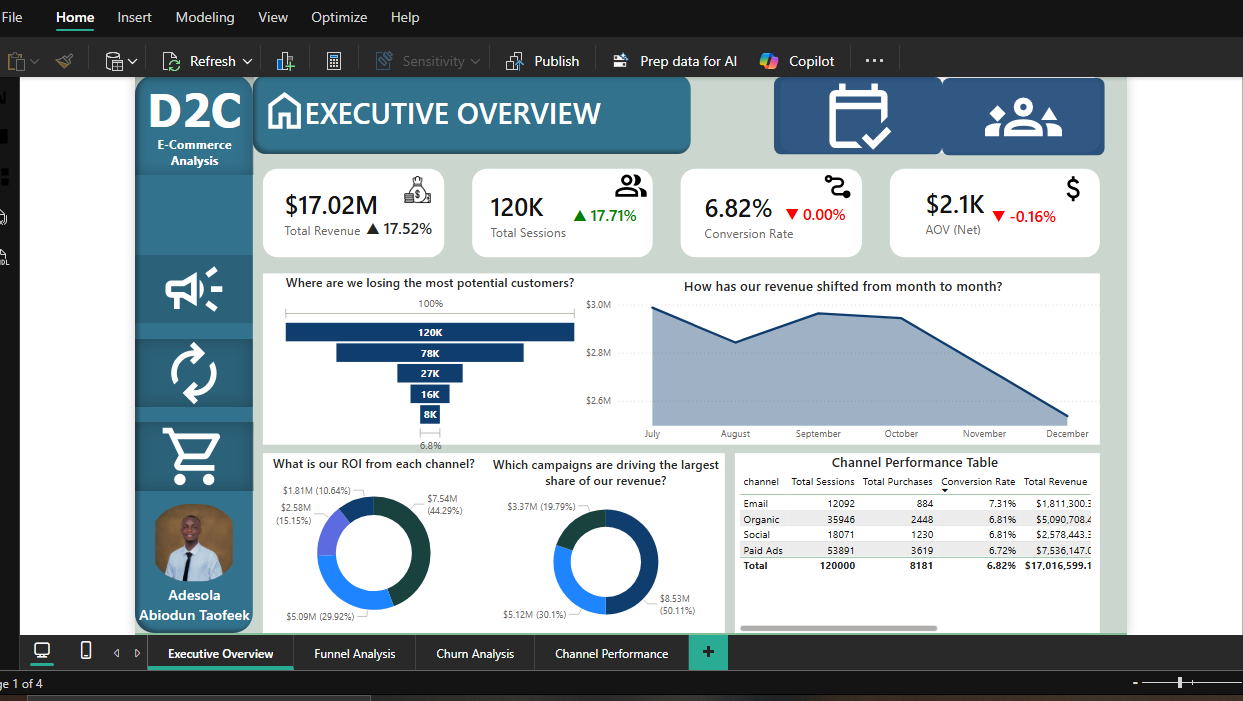

What the dashboard file says about the page in this screenshot:
{"tool":"powerbi","page":{"name":"Executive Overview","canvas":[1280,720],"ordinal":0},"visuals":[{"type":"cardVisual","fields":{"Data":["FactDim2.Total Revenue"]},"box":[163.7,126.5,229.2,96.7],"z":0},{"type":"cardVisual","fields":{"Data":["FactDim2.Total Sessions"]},"box":[430.1,123.5,241.1,105.7],"z":1000},{"type":"cardVisual","fields":{"Data":["FactDim2.Conversion Rate"]},"box":[705.5,128,229.2,101.2],"z":2000},{"type":"cardVisual","fields":{"Data":["FactDim2.AOV (Net)"]},"box":[990.4,125.8,221.2,96.9],"z":3000},{"type":"card","fields":{"Values":["FactDim2.CR Growth With Icon"]},"box":[824.1,154.7,107,46.3],"z":4000},{"type":"card","fields":{"Values":["FactDim2.Session Growth With Icon"]},"box":[543.6,159,125.8,41.9],"z":5000},{"type":"card","fields":{"Values":["FactDim2.Revenue Growth With Icon"]},"box":[287.3,177.1,105.7,38.7],"z":6000},{"type":"card","fields":{"Values":["FactDim2.AOV Growth With Icon"]},"box":[1082.9,161.9,128.7,39],"z":7000},{"type":"funnel","title":"Where are we losing the most potential customers?","fields":{"Y":["FactDim2.Total Sessions","FactDim2.Total Viewed Product","Sum(FactDim2.added_to_cart)","FactDim2.Total Checkout Started","FactDim2.Total Purchases"]},"box":[185.1,254.2,392.3,235.1],"z":8000},{"type":"areaChart","title":"How has our revenue shifted from month to month?","fields":{"Category":["Calendar.Date.Variation.Date Hierarchy.Year","Calendar.Date.Variation.Date Hierarchy.Quarter","Calendar.Date.Variation.Date Hierarchy.Month","Calendar.Date.Variation.Date Hierarchy.Day"],"Y":["FactDim2.Total Revenue"]},"box":[577.3,256.4,674.1,222.3],"z":9000},{"type":"donutChart","title":"What is our ROI from each channel?","fields":{"Y":["FactDim2.Total Revenue"],"Category":["Chennel_Dim.channel"]},"box":[163.7,488.2,288.7,232.2],"z":10000},{"type":"tableEx","title":"Channel Performance Table","fields":{"Values":["Chennel_Dim.channel","FactDim2.Total Sessions","FactDim2.Total Purchases","FactDim2.Conversion Rate","FactDim2.Total Revenue","FactDim2.AOV (Net)","FactDim2.Revenue Growth With Icon","FactDim2.CR Growth With Icon"]},"box":[774.5,484,464.3,236.6],"z":11000},{"type":"donutChart","title":"Which campaigns are driving the largest share of our revenue?","fields":{"Y":["FactDim2.Total Revenue"],"Category":["Campaign_Dim.campaign_type"]},"box":[452.5,488.7,309.4,231.3],"z":12000},{"type":"image","box":[335.4,127.2,57.8,34.7],"z":13000},{"type":"image","box":[860.2,121.4,92.5,40.5],"z":14000},{"type":"image","box":[608.7,118.6,62.2,43.4],"z":15000},{"type":"image","box":[1169.6,122.9,82.4,43.4],"z":16000},{"type":"textbox","box":[163.4,15.9,491.6,70.8],"z":17000},{"type":"image","box":[0,229.2,151.8,87.8],"z":18000},{"type":"image","box":[0,337.9,151.8,87.8],"z":19000},{"type":"image","box":[0,445,153.3,89.3],"z":20000},{"type":"image","box":[17.9,550.7,116.1,99.7],"z":21000},{"type":"image","box":[824.6,0,217.3,99.7],"z":22000},{"type":"textbox","box":[0,650.4,153.3,68.5],"z":27000},{"type":"image","box":[153.3,11.9,78.9,62.5],"z":28000},{"type":"textbox","box":[0,0,153.3,126.5],"z":29000},{"type":"image","box":[1041.6,1.8,209.7,100.4],"z":30000}]}

Visuals, with their boxes on the page's 1280x720 design canvas (x1, y1, x2, y2). These are canvas units, not pixel positions in the 1243x701 screenshot, which may show the page scaled, cropped or inside an application window:
cardVisual - FactDim2.Total Revenue: {"left": 164, "top": 126, "right": 393, "bottom": 223}
cardVisual - FactDim2.Total Sessions: {"left": 430, "top": 124, "right": 671, "bottom": 229}
cardVisual - FactDim2.Conversion Rate: {"left": 706, "top": 128, "right": 935, "bottom": 229}
cardVisual - FactDim2.AOV (Net): {"left": 990, "top": 126, "right": 1212, "bottom": 223}
card - FactDim2.CR Growth With Icon: {"left": 824, "top": 155, "right": 931, "bottom": 201}
card - FactDim2.Session Growth With Icon: {"left": 544, "top": 159, "right": 669, "bottom": 201}
card - FactDim2.Revenue Growth With Icon: {"left": 287, "top": 177, "right": 393, "bottom": 216}
card - FactDim2.AOV Growth With Icon: {"left": 1083, "top": 162, "right": 1212, "bottom": 201}
"Where are we losing the most potential customers?" funnel: {"left": 185, "top": 254, "right": 577, "bottom": 489}
"How has our revenue shifted from month to month?" areaChart: {"left": 577, "top": 256, "right": 1251, "bottom": 479}
"What is our ROI from each channel?" donutChart: {"left": 164, "top": 488, "right": 452, "bottom": 720}
"Channel Performance Table" tableEx: {"left": 774, "top": 484, "right": 1239, "bottom": 721}
"Which campaigns are driving the largest share of our revenue?" donutChart: {"left": 452, "top": 489, "right": 762, "bottom": 720}
image: {"left": 335, "top": 127, "right": 393, "bottom": 162}
image: {"left": 860, "top": 121, "right": 953, "bottom": 162}
image: {"left": 609, "top": 119, "right": 671, "bottom": 162}
image: {"left": 1170, "top": 123, "right": 1252, "bottom": 166}
textbox: {"left": 163, "top": 16, "right": 655, "bottom": 87}
image: {"left": 0, "top": 229, "right": 152, "bottom": 317}
image: {"left": 0, "top": 338, "right": 152, "bottom": 426}
image: {"left": 0, "top": 445, "right": 153, "bottom": 534}
image: {"left": 18, "top": 551, "right": 134, "bottom": 650}
image: {"left": 825, "top": 0, "right": 1042, "bottom": 100}
textbox: {"left": 0, "top": 650, "right": 153, "bottom": 719}
image: {"left": 153, "top": 12, "right": 232, "bottom": 74}
textbox: {"left": 0, "top": 0, "right": 153, "bottom": 126}
image: {"left": 1042, "top": 2, "right": 1251, "bottom": 102}
